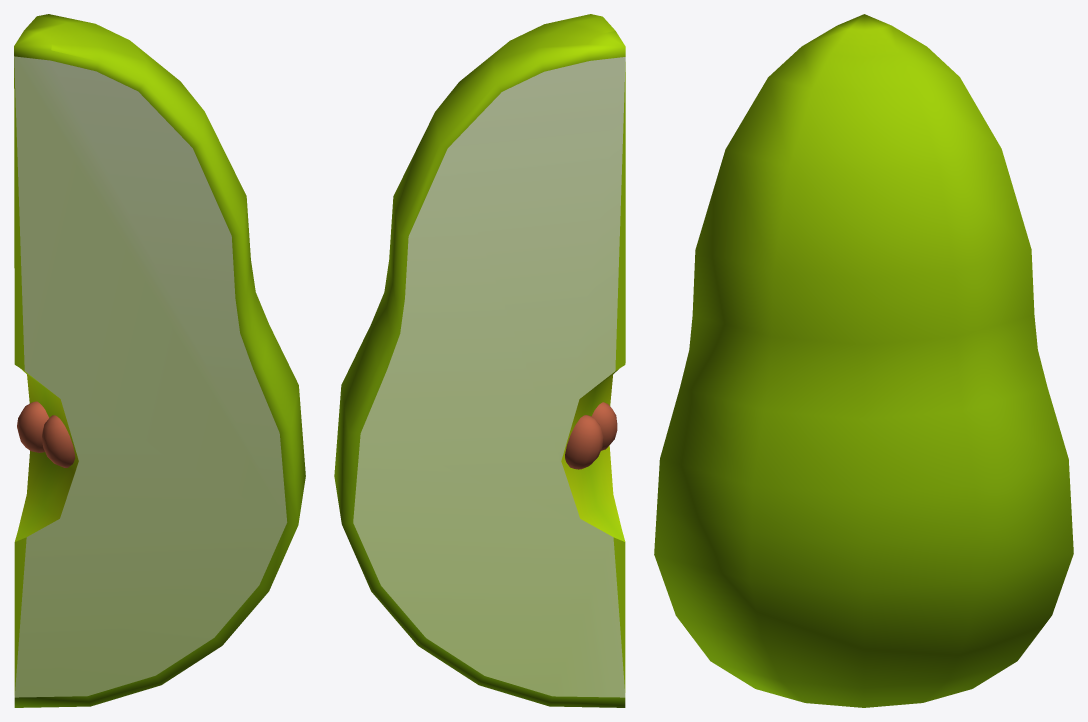
The model's file is Pear_V1_02.fbx.
The picture shows the model from 3 angles, left to right: view 1: azimuth 30°, elevation 25°; view 2: azimuth 150°, elevation 25°; view 3: azimuth 270°, elevation 25°; orthographic projection.
Visible parts, largest first — view 1: Pear_V1_02; view 2: Pear_V1_02; view 3: Pear_V1_02.
Boxes of the visible parts, left/top/right/bottom form: Pear_V1_02: left=14, top=14, right=305, bottom=707; Pear_V1_02: left=334, top=14, right=625, bottom=707; Pear_V1_02: left=654, top=14, right=1073, bottom=707.
Size of the model in its own units: 12.94 by 32.11 by 18.27.
